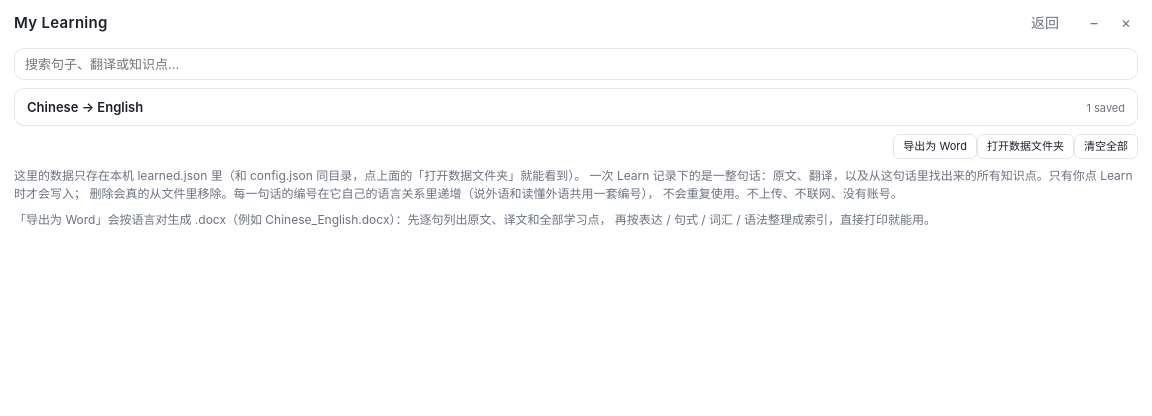
Test: MyLanguagePage: one pair › closes the pair when its last sentence is deleted
Expected: the text "Chinese → English" is shown, [27, 99, 143, 115]
Click the button "Chinese → English 1 saved". click: (85, 107)
box: [14, 88, 1138, 126]
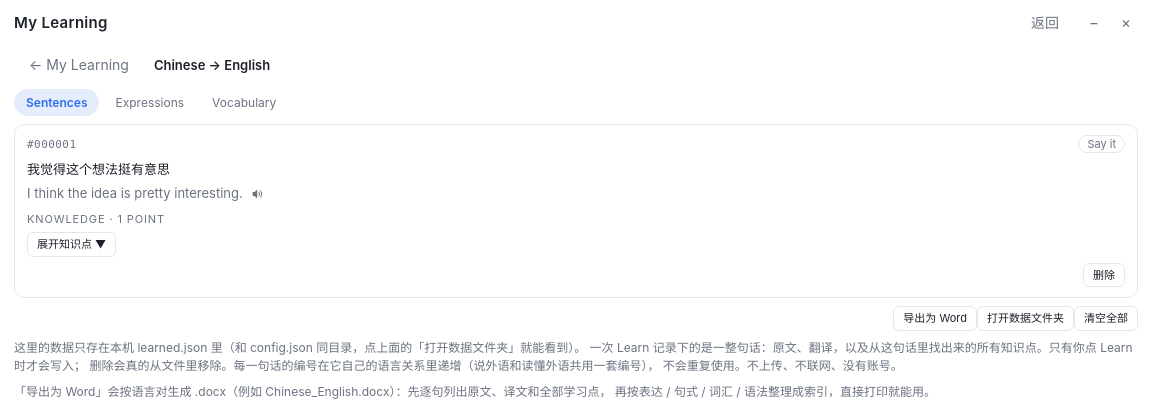
Click the button with aria-label "删除句子 #000001". click: (1104, 275)
box: [1083, 263, 1125, 287]
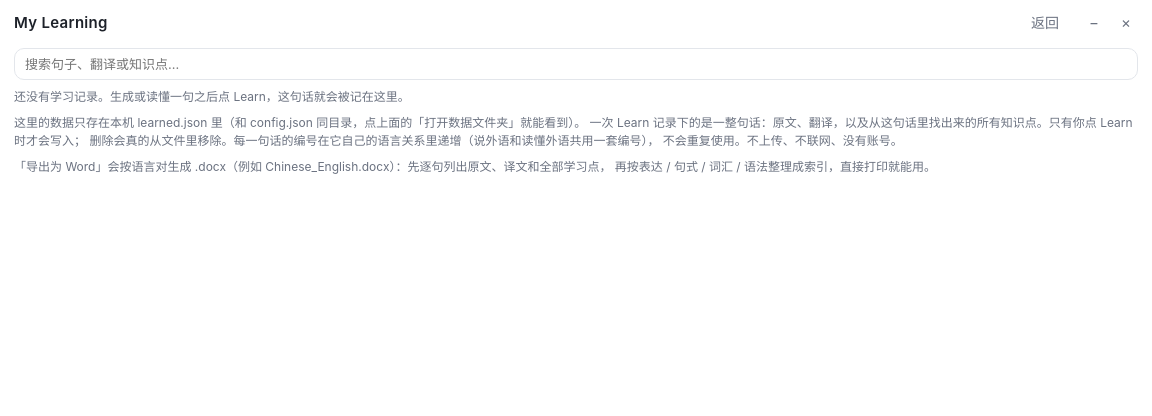
Now the text "还没有学习记录。生成或读懂一句之后点 Learn，这句话就会被记在这里。" is shown, box [14, 89, 410, 104]
Now no list items with class "language__record" are shown
